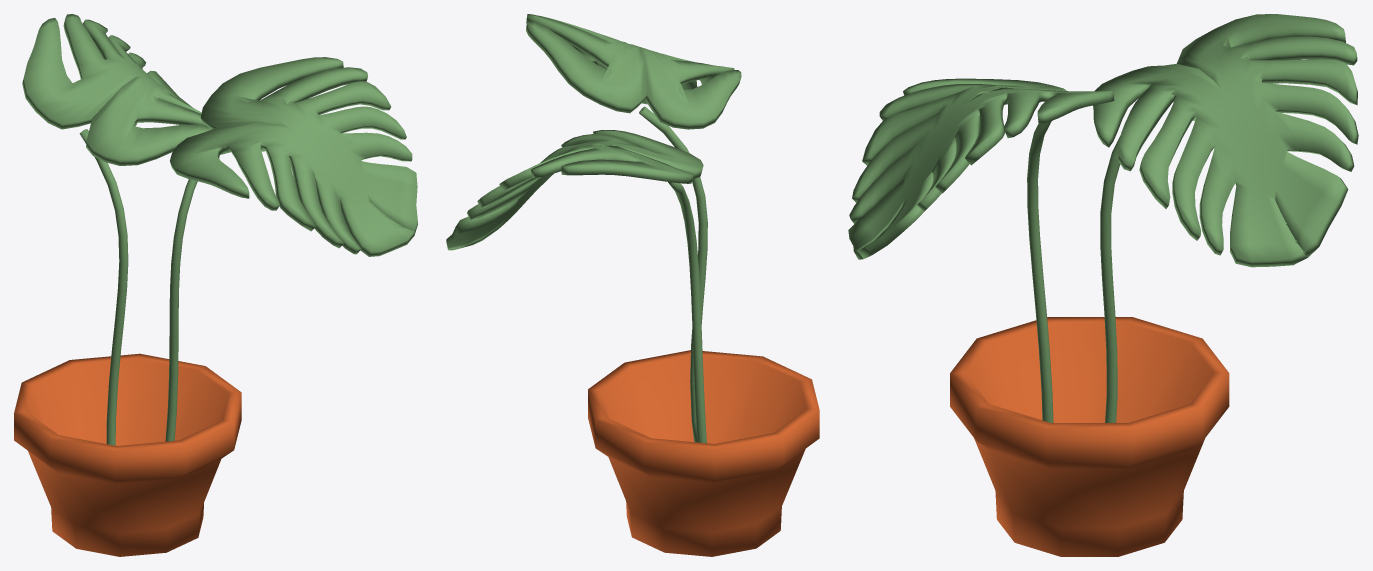
File: plant_asset.fbx
3 views of the same model, side by side, from view 1: azimuth 30°, elevation 25°; view 2: azimuth 150°, elevation 25°; view 3: azimuth 270°, elevation 25° (orthographic). The views are drawn at different scales.
Visible parts, largest first — view 1: Cylinder.136; view 2: Cylinder.136; view 3: Cylinder.136.
Boxes of the visible parts, <box> form: Cylinder.136: <box>14,14,417,556</box>; Cylinder.136: <box>446,14,819,556</box>; Cylinder.136: <box>848,14,1358,556</box>.
Bounding box in the file's own units: 97.4 × 129 × 115.
2 materials, 2 textured.
